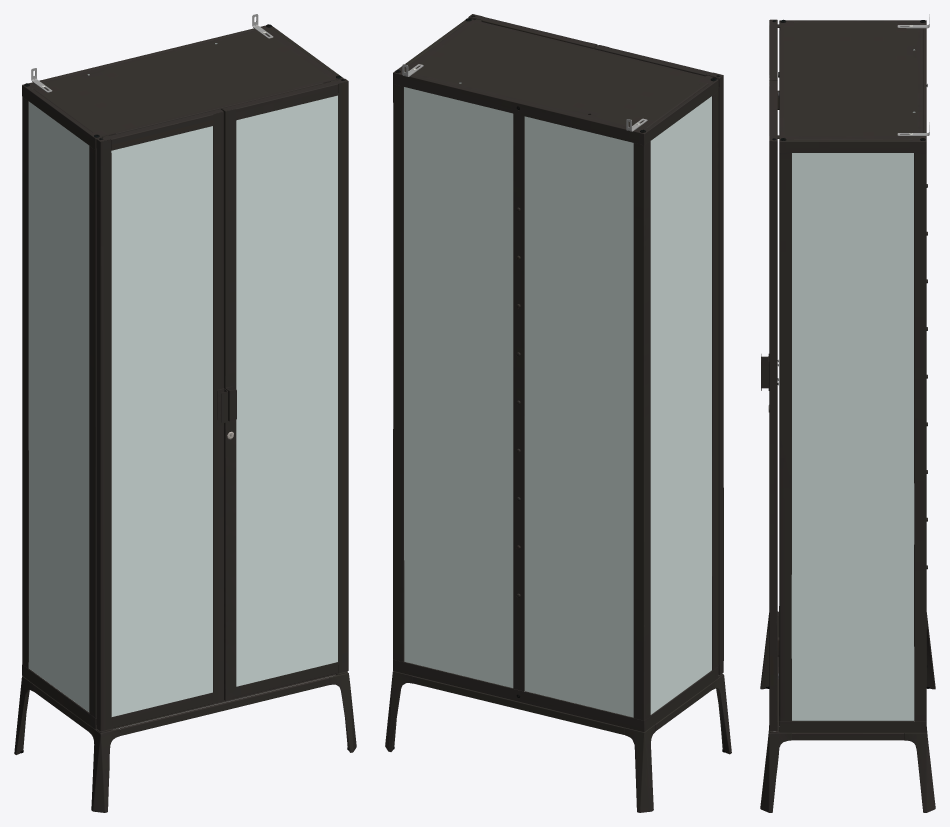
Rendered from milsbo_witryna_30396448.glb.
3 views of the same model, side by side, from view 1: azimuth 30°, elevation 25°; view 2: azimuth 150°, elevation 25°; view 3: azimuth 270°, elevation 25° (orthographic).
Parts seen in each view (by area): view 1: milsbo_witryna_30396448; view 2: milsbo_witryna_30396448; view 3: milsbo_witryna_30396448.
Boxes of the visible parts, x1=… form: milsbo_witryna_30396448: x1=14, y1=14, x2=356, y2=812; milsbo_witryna_30396448: x1=385, y1=14, x2=731, y2=812; milsbo_witryna_30396448: x1=760, y1=14, x2=935, y2=812.
Size of the model in its own units: 0.7244 by 1.78 by 0.4166.
2 materials, 2 textured.
